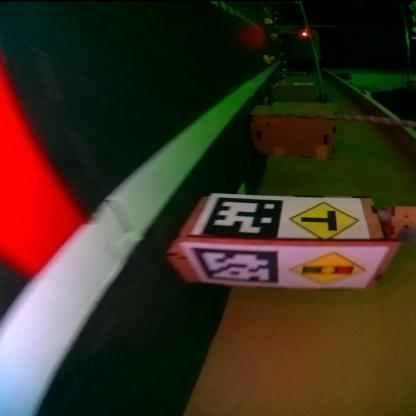Duckie: (265, 18, 273, 24), (272, 34, 280, 40)
Intersection sign: (288, 200, 362, 238)
QR code: (201, 196, 284, 238), (189, 247, 283, 284)
Signal sign: (287, 249, 367, 287)
